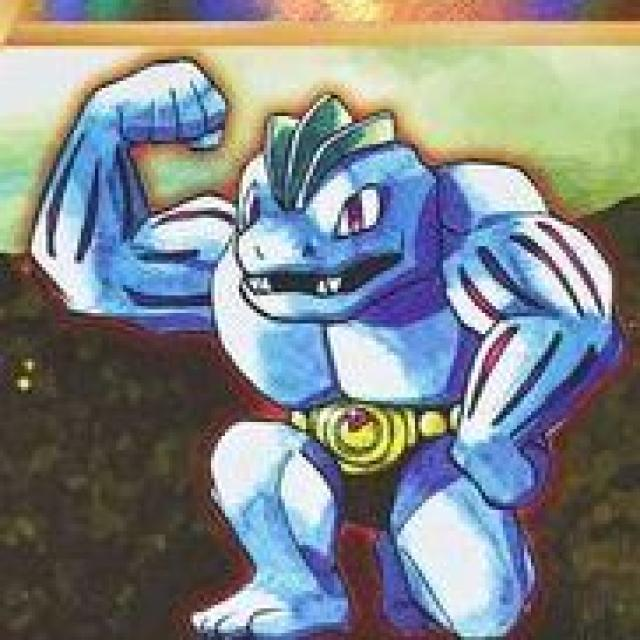Machoke: (23, 66, 635, 640)
